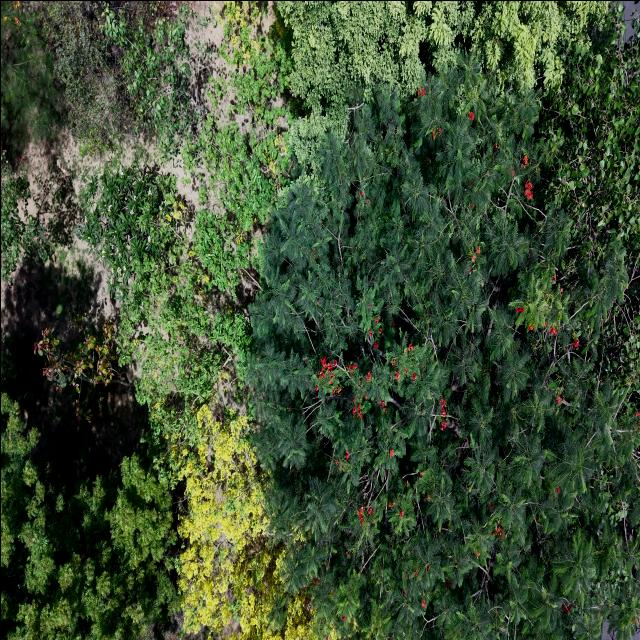DRY_AREA: (1, 130, 197, 367)
VEGETATION_TREE: (1, 1, 639, 639), (248, 62, 639, 638), (36, 7, 310, 638), (83, 6, 311, 639), (83, 7, 288, 413), (277, 1, 609, 171), (1, 1, 196, 281), (84, 167, 248, 444), (1, 393, 179, 639), (278, 1, 607, 118), (540, 18, 639, 398), (172, 406, 316, 639), (181, 5, 290, 293), (1, 1, 197, 159), (101, 4, 196, 150), (39, 1, 128, 152), (34, 315, 122, 421), (1, 1, 59, 160), (1, 151, 48, 282), (1, 335, 41, 403)
